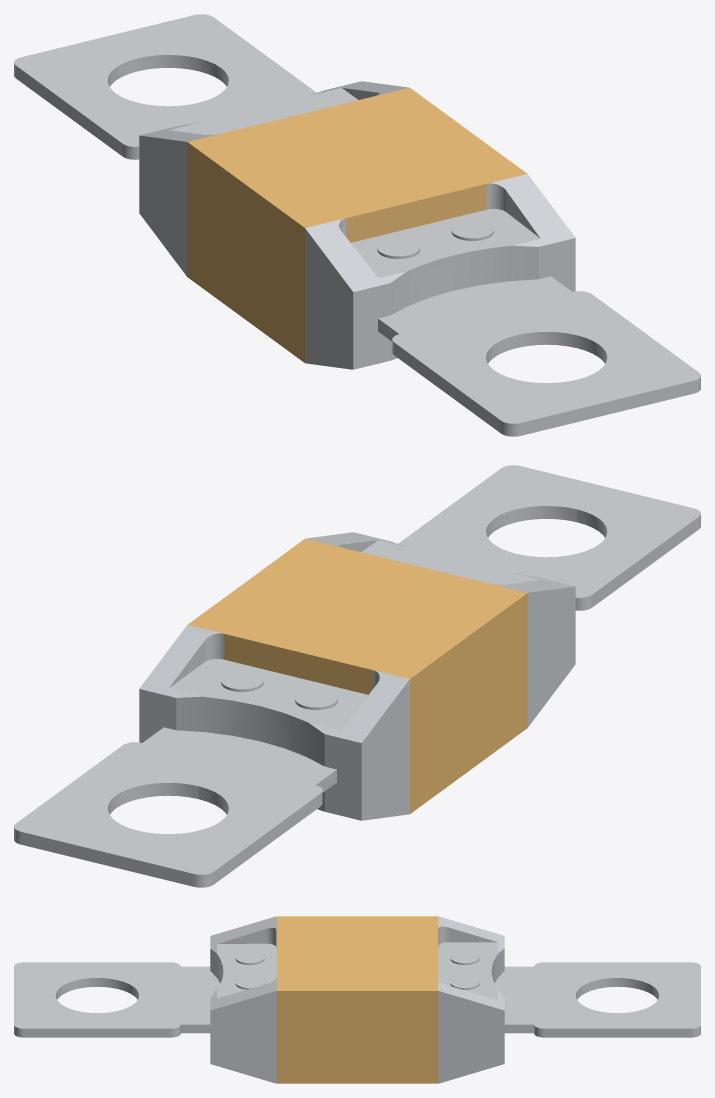
The model's file is fuse-1.glb.
3 renders of one model, top to bottom at view 1: azimuth 30°, elevation 25°; view 2: azimuth 150°, elevation 25°; view 3: azimuth 270°, elevation 25°, orthographic. The views are drawn at different scales.
Parts seen in each view (by area): view 1: terminals, body; view 2: terminals, body; view 3: terminals, body.
Boxes of the visible parts, <box> form: terminals: <box>14,14,700,436</box>; body: <box>187,87,527,362</box>; terminals: <box>14,465,700,887</box>; body: <box>187,538,527,813</box>; terminals: <box>14,916,700,1083</box>; body: <box>276,916,438,1083</box>.
Bounding box in the file's own units: 0.018 × 0.0105 × 0.07.
